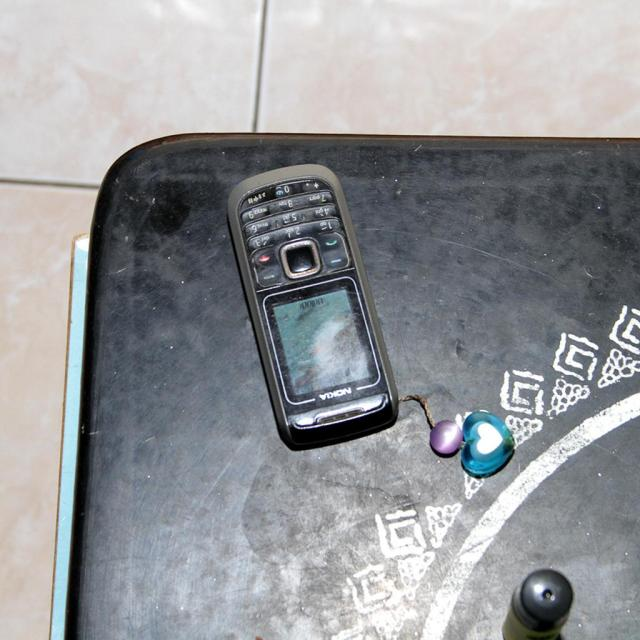Phone: (227, 161, 399, 452)
